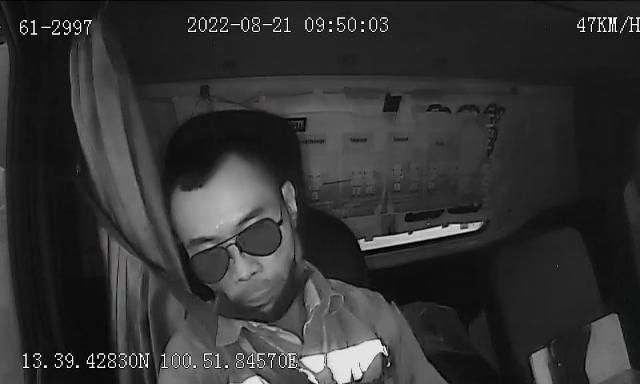SafeDriving: (416, 96, 458, 119)
Seatbelt: (91, 184, 326, 384)
